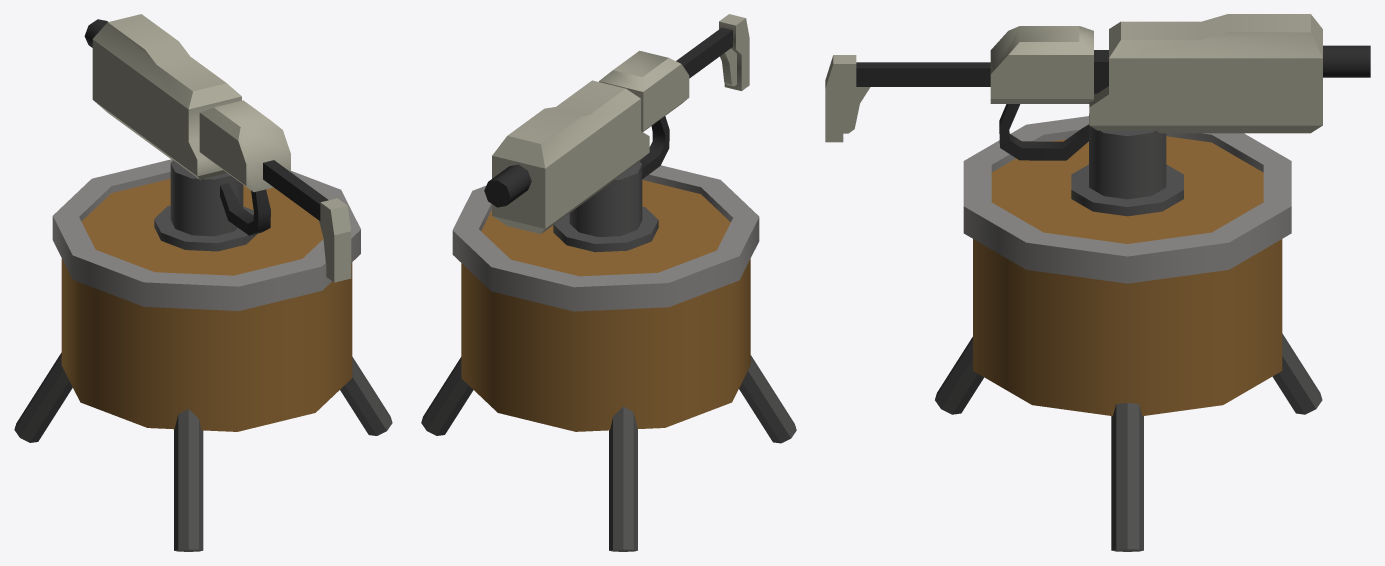
Rendered from Turret.fbx.
3 renders of one model, left to right at view 1: azimuth 30°, elevation 25°; view 2: azimuth 150°, elevation 25°; view 3: azimuth 270°, elevation 25°, orthographic. The views are drawn at different scales.
Visible parts, largest first — view 1: Turret_0, Gun; view 2: Turret_0, Gun; view 3: Turret_0, Gun.
Boxes of the visible parts, left/top/right/bottom form: Turret_0: left=14, top=159, right=392, bottom=551; Gun: left=84, top=14, right=351, bottom=282; Turret_0: left=421, top=165, right=796, bottom=551; Gun: left=484, top=14, right=749, bottom=252; Turret_0: left=935, top=116, right=1322, bottom=551; Gun: left=825, top=14, right=1370, bottom=216.
Bounding box in the file's own units: 50.23 × 59.8 × 67.03.
